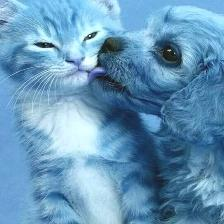kedo: (0, 0, 159, 224)
